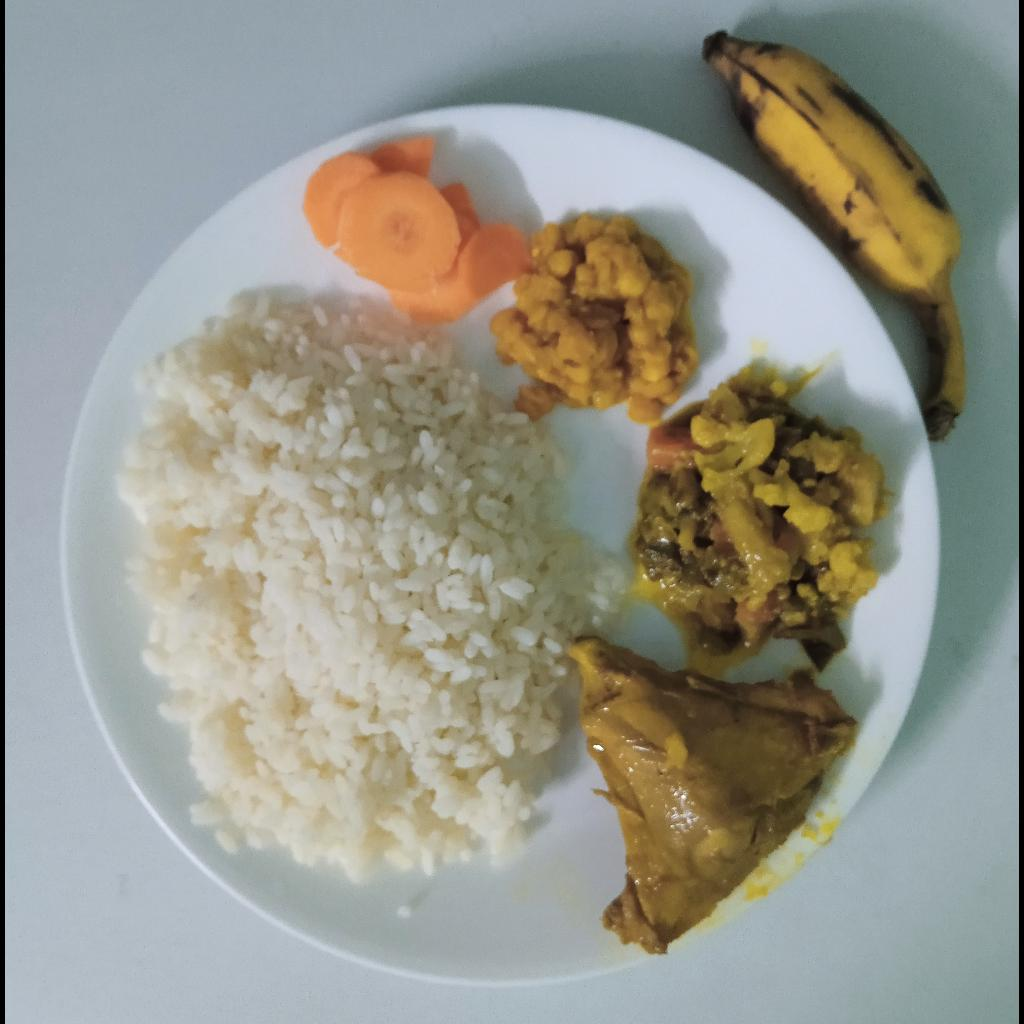banana: (698, 29, 967, 401)
carrot: (301, 136, 529, 323)
chicken: (567, 637, 858, 956)
daal: (488, 214, 701, 424)
rice: (108, 293, 627, 882)
vegetable: (634, 367, 890, 674)
